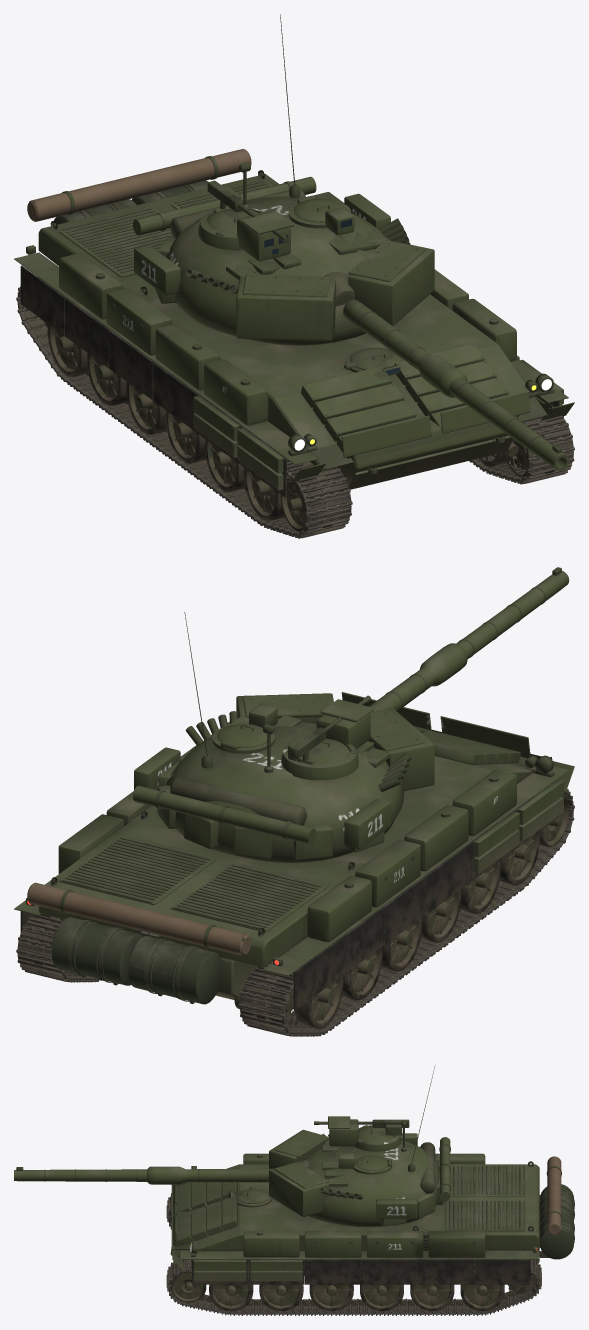
Rendered from t72b3_web.glb.
3 views of the same model, one above another, from view 1: azimuth 30°, elevation 25°; view 2: azimuth 150°, elevation 25°; view 3: azimuth 270°, elevation 25° (orthographic). The views are drawn at different scales.
Visible parts, largest first — view 1: Hull_Armour, Fenders_And_Stowage, Glacis_ERA, Turret_ERA, Turret_Shell, Track_Right, Rubber_Skirts, Gun_Mesh, Rear_Drums_And_Log, Turret_Boxes_And_Snorkel, Engine_Deck, Turret_Roof_Fittings (+13 smaller); view 2: Fenders_And_Stowage, Hull_Armour, Rear_Drums_And_Log, Engine_Deck, Turret_Shell, Turret_Boxes_And_Snorkel, Rubber_Skirts, Track_Right, Turret_ERA, Gun_Mesh, Turret_Roof_Fittings, Glacis_ERA (+12 smaller); view 3: Fenders_And_Stowage, Hull_Armour, Rubber_Skirts, Turret_Shell, Engine_Deck, Track_Left, Turret_ERA, Gun_Mesh, Glacis_ERA, Rear_Drums_And_Log, Turret_Boxes_And_Snorkel, Turret_Roof_Fittings (+12 smaller).
Boxes of the visible parts, left/top/right/bottom form: Hull_Armour: left=38, top=174, right=552, bottom=485; Fenders_And_Stowage: left=14, top=192, right=574, bottom=490; Glacis_ERA: left=301, top=343, right=530, bottom=489; Turret_ERA: left=226, top=229, right=434, bottom=341; Turret_Shell: left=166, top=196, right=382, bottom=345; Track_Right: left=16, top=277, right=352, bottom=538; Rubber_Skirts: left=20, top=265, right=559, bottom=497; Gun_Mesh: left=323, top=272, right=569, bottom=470; Rear_Drums_And_Log: left=27, top=149, right=251, bottom=224; Turret_Boxes_And_Snorkel: left=133, top=176, right=390, bottom=303; Engine_Deck: left=50, top=170, right=272, bottom=295; Turret_Roof_Fittings: left=185, top=162, right=410, bottom=293; Fenders_And_Stowage: left=14, top=721, right=574, bottom=976; Hull_Armour: left=38, top=729, right=552, bottom=999; Rear_Drums_And_Log: left=27, top=882, right=251, bottom=1004; Engine_Deck: left=50, top=811, right=354, bottom=936; Turret_Shell: left=166, top=722, right=403, bottom=862; Turret_Boxes_And_Snorkel: left=133, top=747, right=390, bottom=859; Rubber_Skirts: left=20, top=778, right=559, bottom=1010; Track_Right: left=238, top=785, right=574, bottom=1036; Turret_ERA: left=228, top=693, right=434, bottom=791; Gun_Mesh: left=369, top=567, right=569, bottom=712; Turret_Roof_Fittings: left=185, top=699, right=411, bottom=791; Glacis_ERA: left=341, top=692, right=530, bottom=764; Fenders_And_Stowage: left=172, top=1153, right=539, bottom=1281; Hull_Armour: left=170, top=1164, right=539, bottom=1267; Rubber_Skirts: left=192, top=1259, right=530, bottom=1284; Turret_Shell: left=303, top=1140, right=439, bottom=1226; Engine_Deck: left=413, top=1161, right=533, bottom=1231; Track_Left: left=166, top=1258, right=541, bottom=1315; Turret_ERA: left=269, top=1129, right=347, bottom=1217; Gun_Mesh: left=14, top=1159, right=308, bottom=1184; Glacis_ERA: left=171, top=1167, right=237, bottom=1257; Rear_Drums_And_Log: left=423, top=1156, right=574, bottom=1259; Turret_Boxes_And_Snorkel: left=376, top=1133, right=450, bottom=1226; Turret_Roof_Fittings: left=320, top=1116, right=415, bottom=1199.
Bounding box in the file's own units: 3.6 × 4.21 × 9.53.
8 materials, 4 textured.
